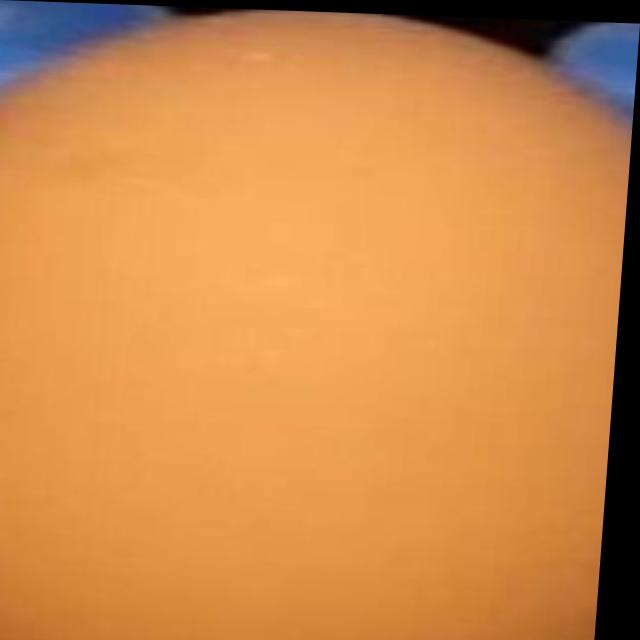fresh: (0, 32, 638, 640)
